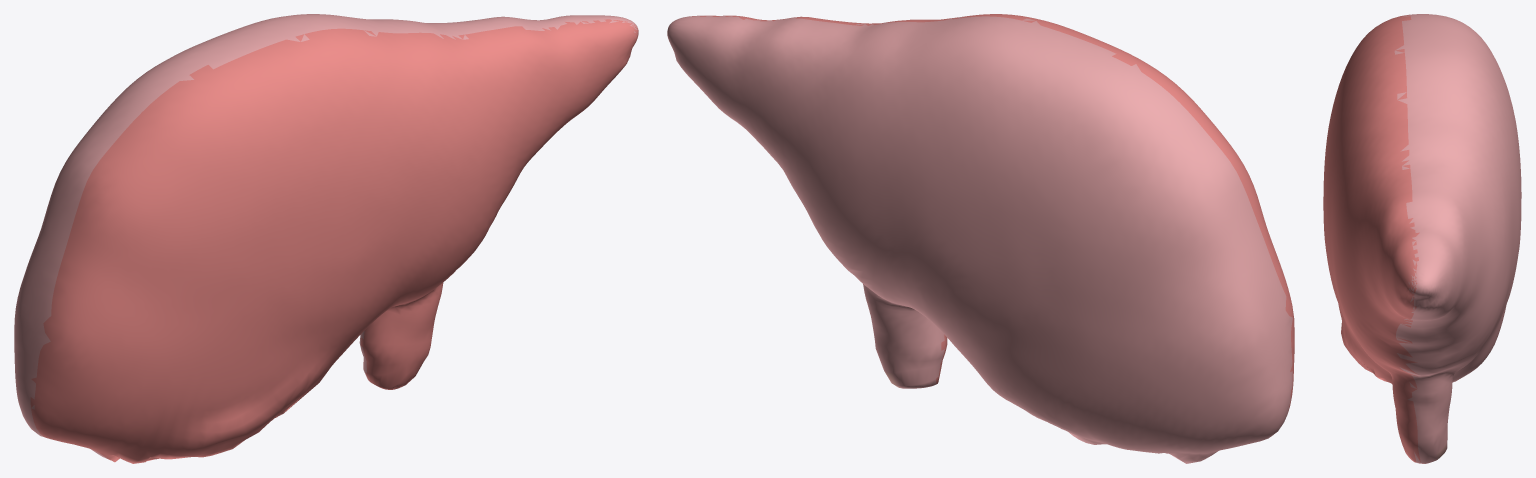
The picture shows the model from 3 angles, left to right: view 1: azimuth 30°, elevation 25°; view 2: azimuth 150°, elevation 25°; view 3: azimuth 270°, elevation 25°; orthographic projection. The views are drawn at different scales.
Parts seen in each view (by area): view 1: Mesh1; view 2: Mesh1; view 3: Mesh1.
Boxes of the visible parts, left/top/right/bottom form: Mesh1: left=14, top=14, right=638, bottom=463; Mesh1: left=667, top=14, right=1294, bottom=463; Mesh1: left=1323, top=14, right=1521, bottom=463.
Bounding box in the file's own units: 200 × 122 × 59.15.
